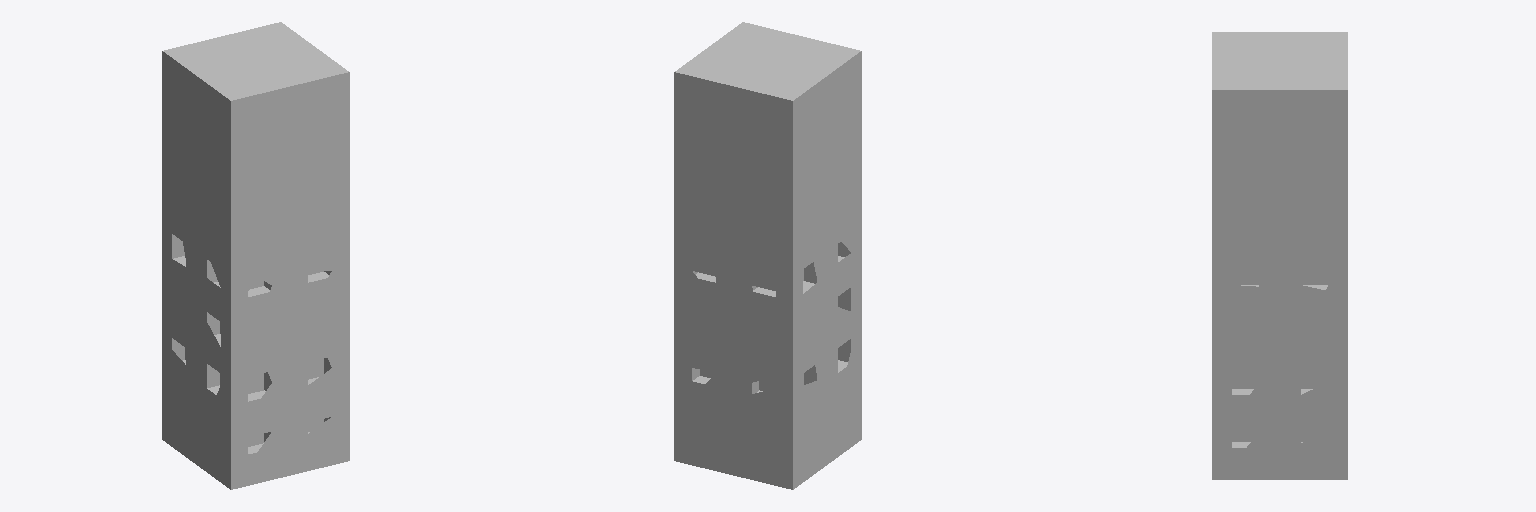
File: Skyscraper.obj
3 renders of one model, left to right at view 1: azimuth 30°, elevation 25°; view 2: azimuth 150°, elevation 25°; view 3: azimuth 270°, elevation 25°, orthographic.
Visible parts, largest first — view 1: pCube7; view 2: pCube7; view 3: pCube7.
Part boxes in pixels (bbox=[...]): pCube7: bbox=[162, 22, 349, 489]; pCube7: bbox=[674, 22, 861, 489]; pCube7: bbox=[1212, 32, 1347, 479].
Size of the model in its own units: 7.11 by 22.28 by 7.11.